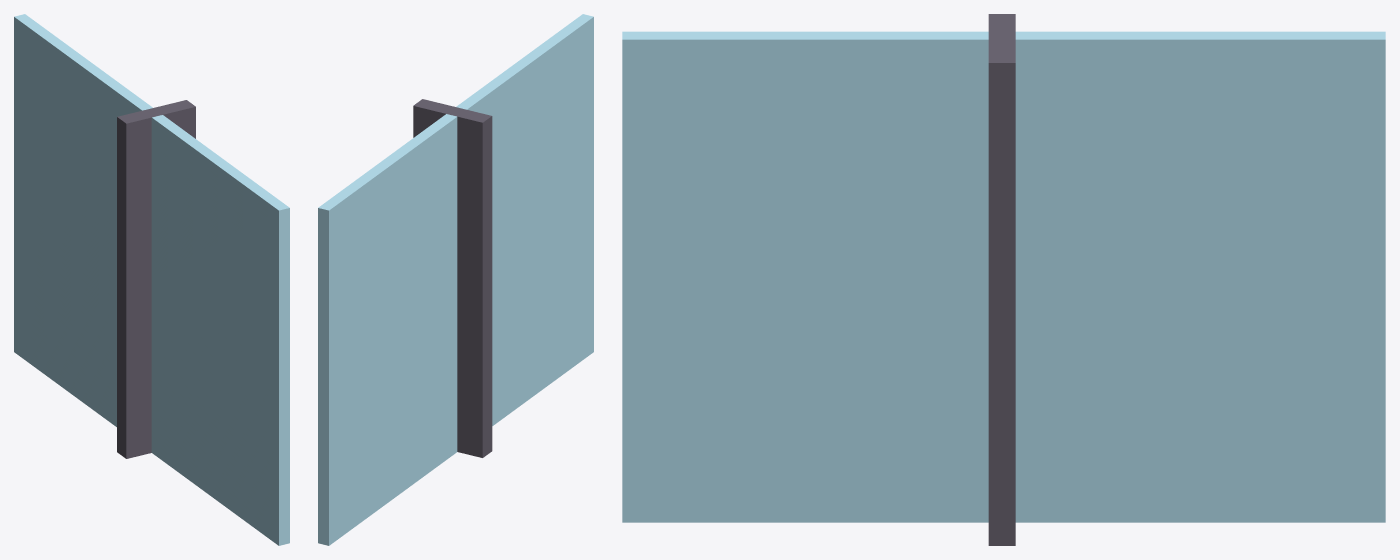
Rendered from 1er_ventana_der.obj.
3 renders of one model, left to right at view 1: azimuth 30°, elevation 25°; view 2: azimuth 150°, elevation 25°; view 3: azimuth 270°, elevation 25°, orthographic. The views are drawn at different scales.
Parts seen in each view (by area): view 1: bolleano.008; view 2: bolleano.008; view 3: bolleano.008.
Boxes of the visible parts, left/top/right/bottom form: bolleano.008: left=14, top=14, right=289, bottom=545; bolleano.008: left=318, top=14, right=593, bottom=545; bolleano.008: left=622, top=14, right=1385, bottom=545.
Size of the model in its own units: 1 by 4.6 by 6.59.
Materials: 2 (2 with a texture image).
